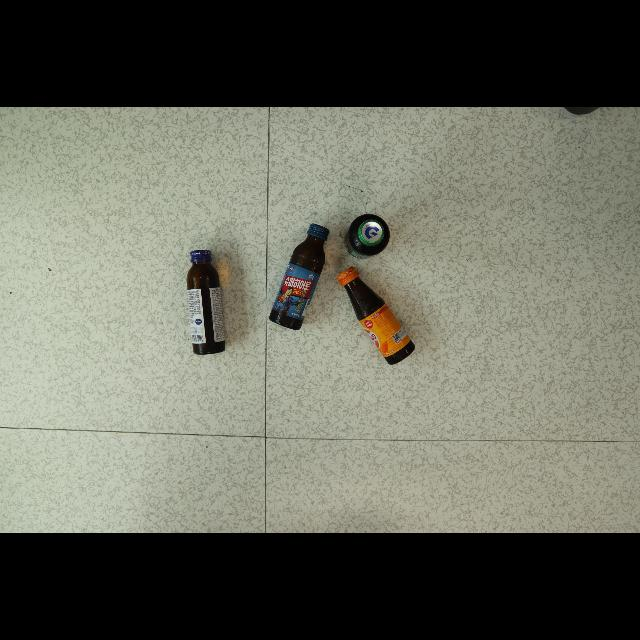energdrink: (338, 267, 415, 365), (270, 223, 329, 330), (187, 250, 225, 355), (345, 213, 390, 258)
